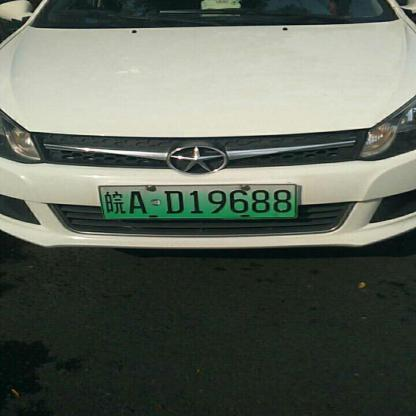lp: (100, 184, 295, 218)
